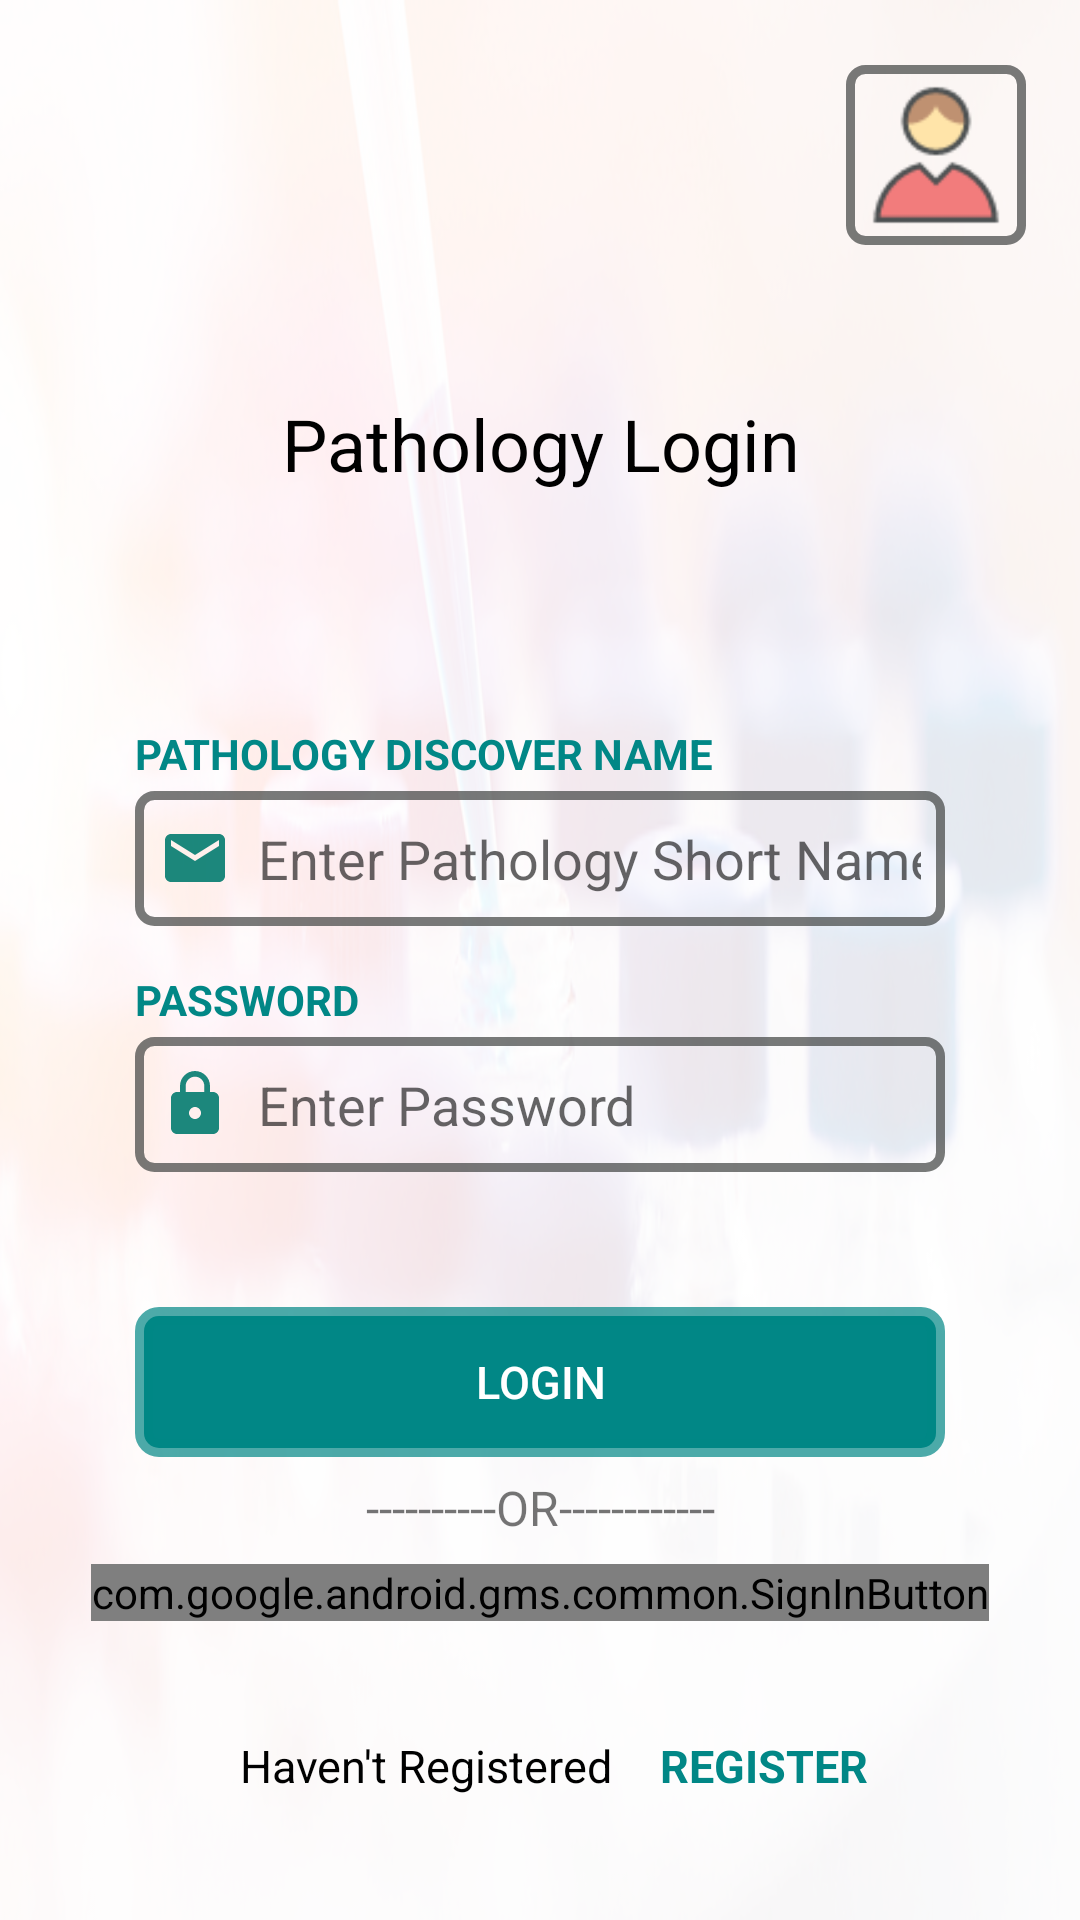

Icons on this 1080×1920 Android screen, each with the point to tap as (x=x, y=y):
user: (x=936, y=155)
